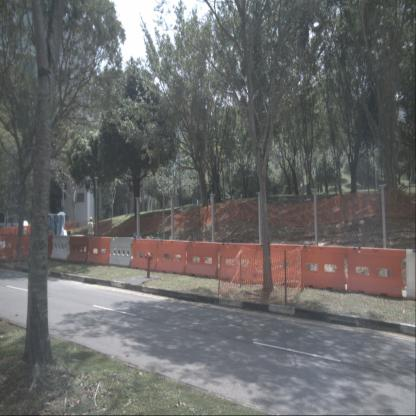movable_object-barrier: (346, 246, 406, 300), (301, 245, 347, 293), (256, 244, 302, 288), (219, 242, 258, 284), (184, 242, 220, 280), (155, 239, 188, 275), (130, 239, 159, 272), (108, 237, 134, 268), (86, 237, 112, 265), (68, 236, 90, 263), (50, 235, 72, 261), (0, 234, 22, 260), (405, 249, 416, 301), (22, 234, 38, 259), (8, 225, 20, 241), (20, 225, 32, 240), (61, 220, 72, 232), (1, 228, 9, 242)
